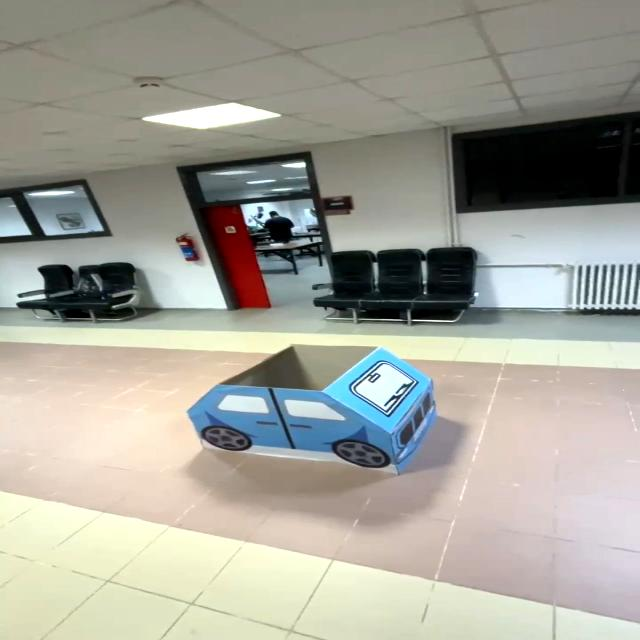blue_car: (162, 333, 449, 489)
